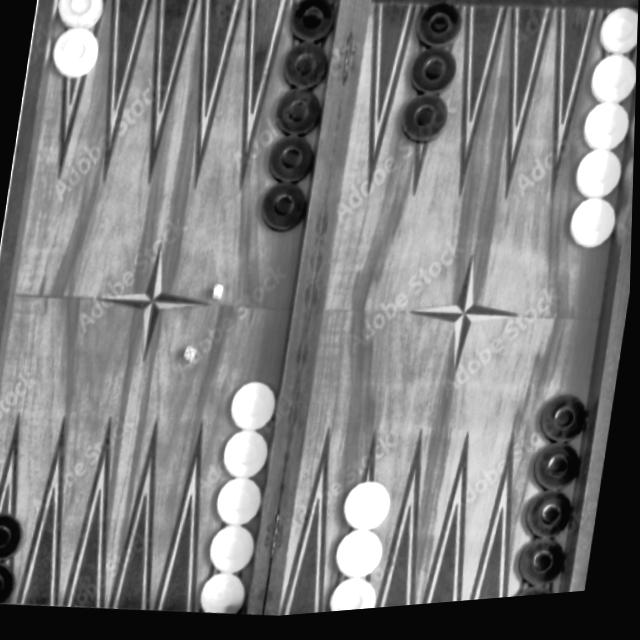bar: (251, 0, 375, 618)
board: (0, 0, 640, 640)
dark_p: (256, 179, 315, 243), (396, 95, 455, 157), (530, 446, 589, 507), (517, 543, 576, 604), (524, 495, 583, 555), (538, 397, 596, 458), (264, 135, 321, 193), (406, 49, 462, 108), (271, 88, 327, 145), (412, 3, 467, 61), (278, 43, 333, 100), (284, 0, 340, 54), (0, 507, 32, 565), (0, 558, 23, 605), (513, 591, 567, 606)
dice: (207, 283, 231, 310), (181, 346, 202, 369)
light_p: (212, 474, 274, 536), (226, 378, 285, 441), (339, 482, 399, 542), (572, 153, 629, 216), (566, 202, 623, 264), (578, 107, 637, 166), (221, 428, 279, 488), (47, 24, 104, 85), (208, 522, 264, 581), (587, 58, 638, 121), (332, 533, 390, 588), (197, 572, 254, 622), (595, 10, 639, 68), (328, 578, 385, 618), (52, 0, 108, 38)
